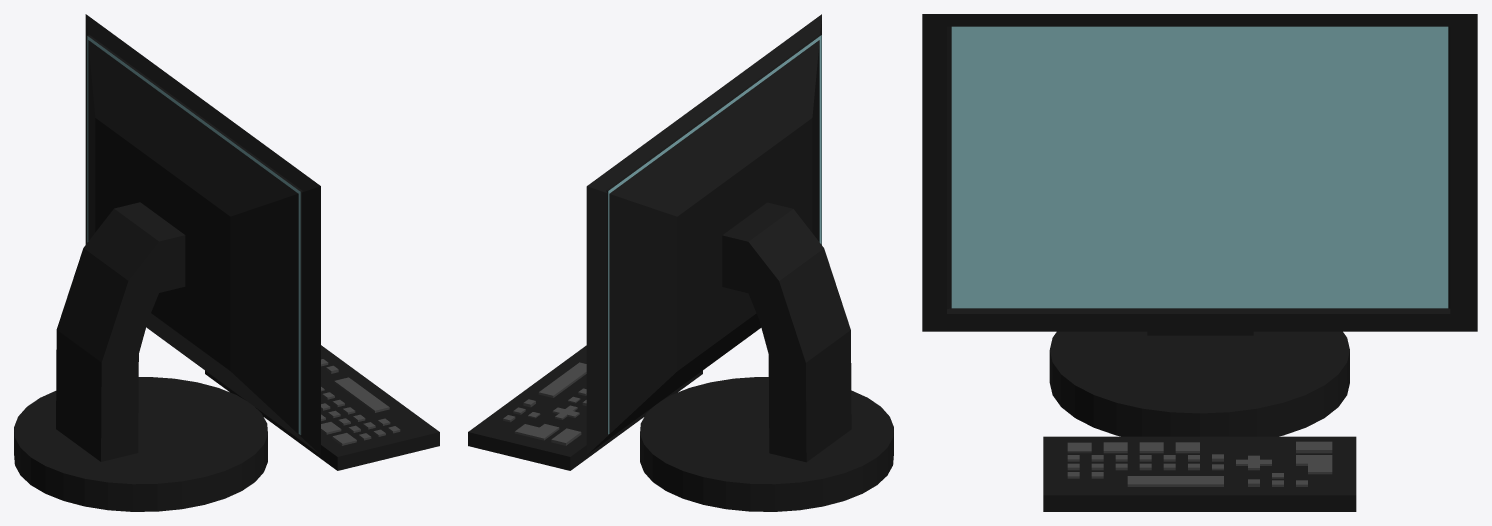
File: Computer.fbx
3 renders of one model, left to right at view 1: azimuth 30°, elevation 25°; view 2: azimuth 150°, elevation 25°; view 3: azimuth 270°, elevation 25°, orthographic. The views are drawn at different scales.
Parts seen in each view (by area): view 1: Cube; view 2: Cube; view 3: Cube.
Part boxes in pixels (bbox=[...]): Cube: bbox=[14, 14, 439, 511]; Cube: bbox=[468, 14, 893, 511]; Cube: bbox=[922, 14, 1477, 511].
Size of the model in its own units: 133 by 127 by 158.
